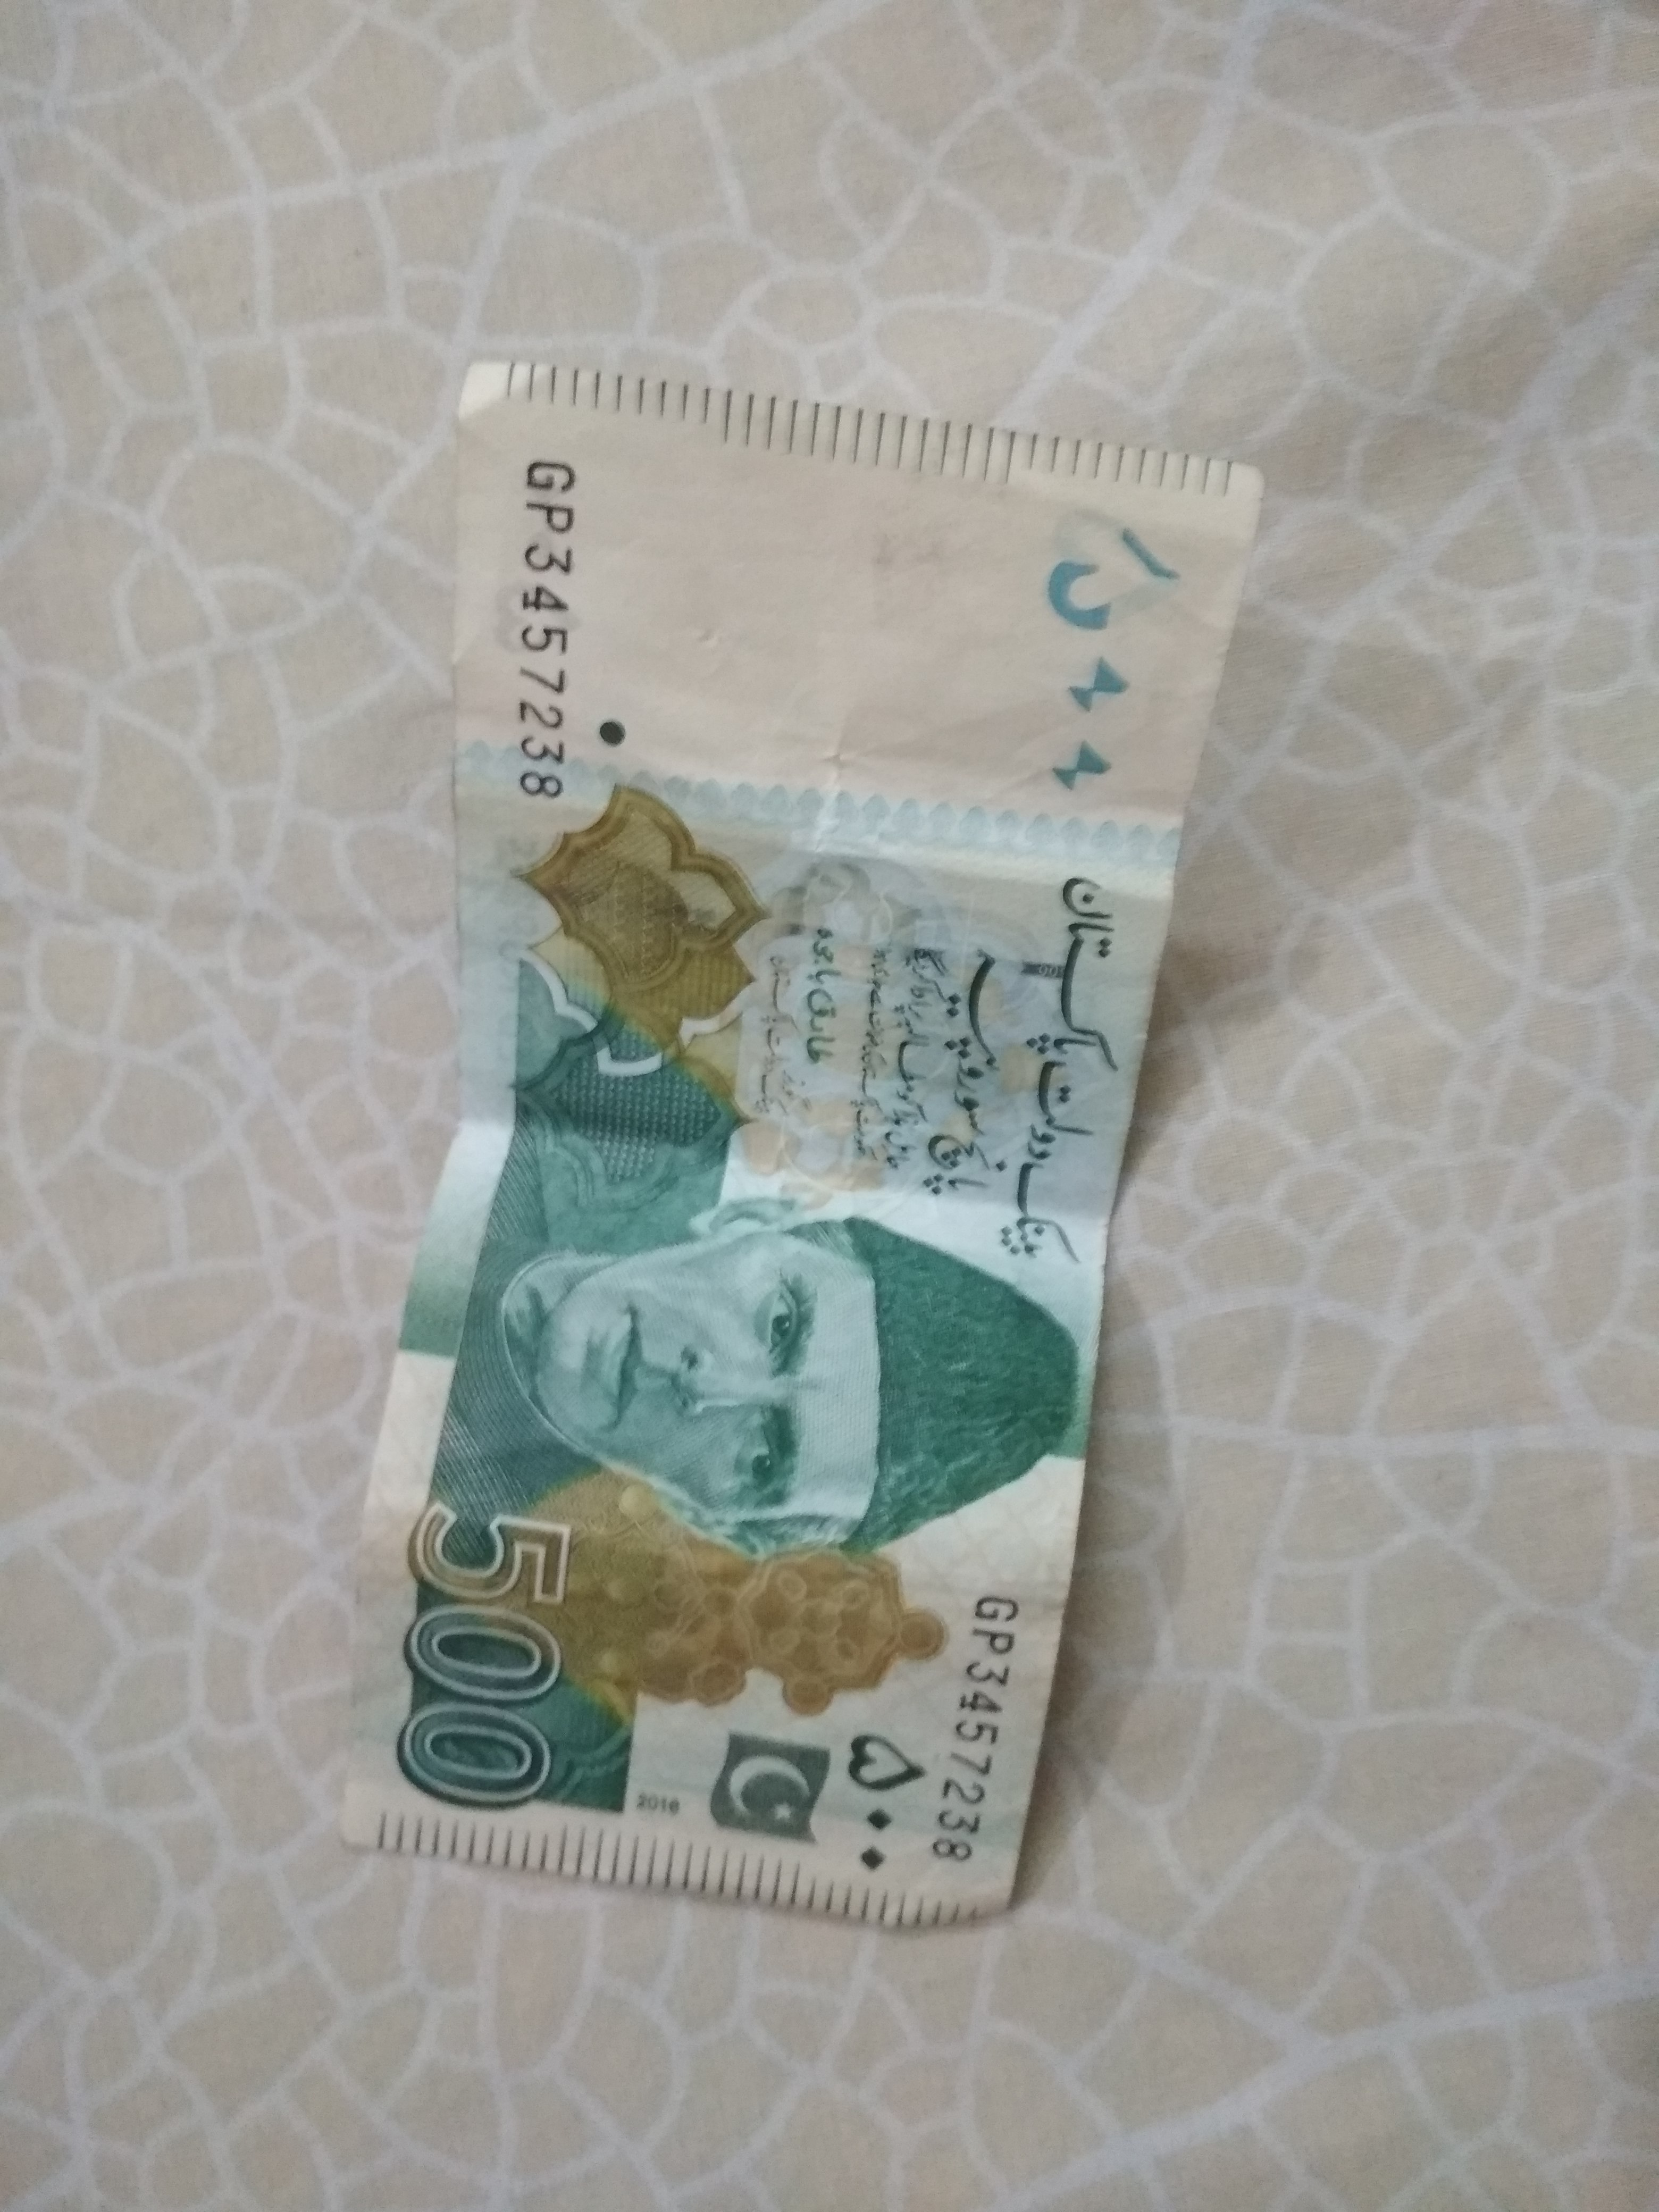500 rupee: (326, 310, 1126, 1982)
